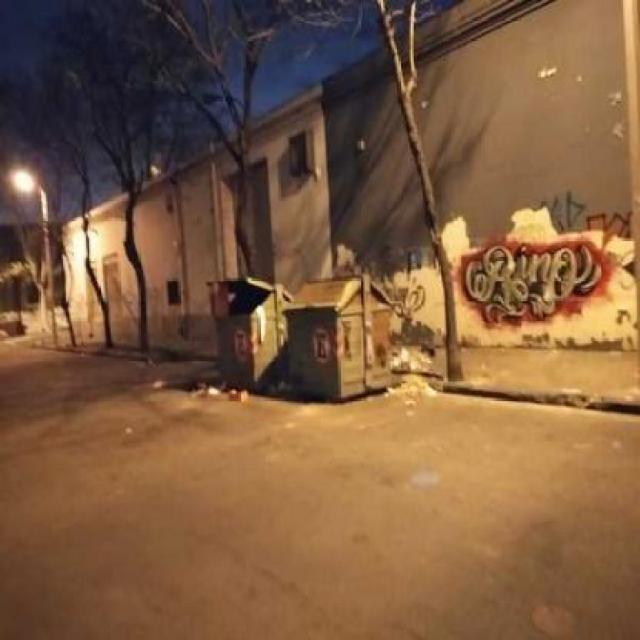garbage: (197, 249, 442, 440)
